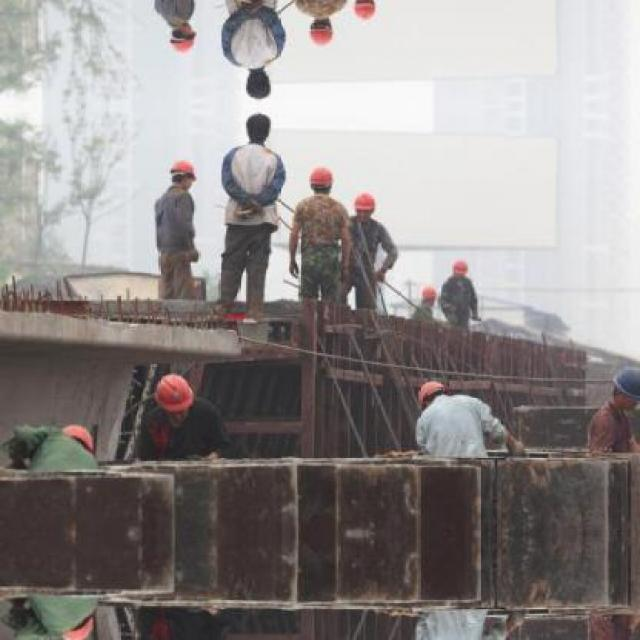hat: (145, 367, 199, 423), (57, 417, 101, 457), (413, 369, 453, 410), (606, 363, 640, 407), (300, 164, 342, 190), (165, 159, 201, 185), (352, 189, 386, 215), (448, 256, 479, 282), (415, 282, 443, 307)
